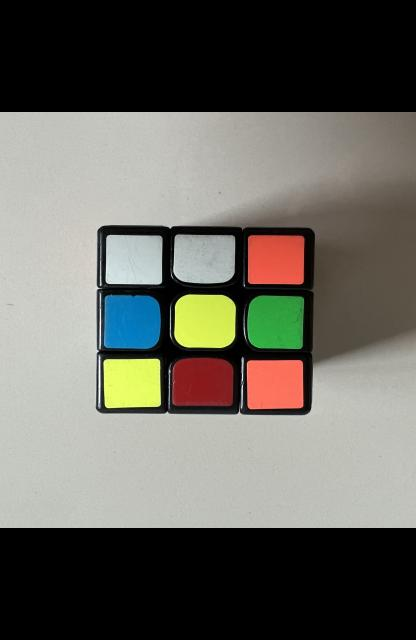Blue: (103, 295, 159, 349)
Green: (245, 295, 303, 349)
Orange: (245, 360, 303, 410), (247, 236, 304, 284)
Red: (172, 358, 232, 407)
White: (172, 234, 234, 283), (104, 234, 162, 284)
Yellow: (173, 294, 236, 348), (103, 359, 160, 408)
